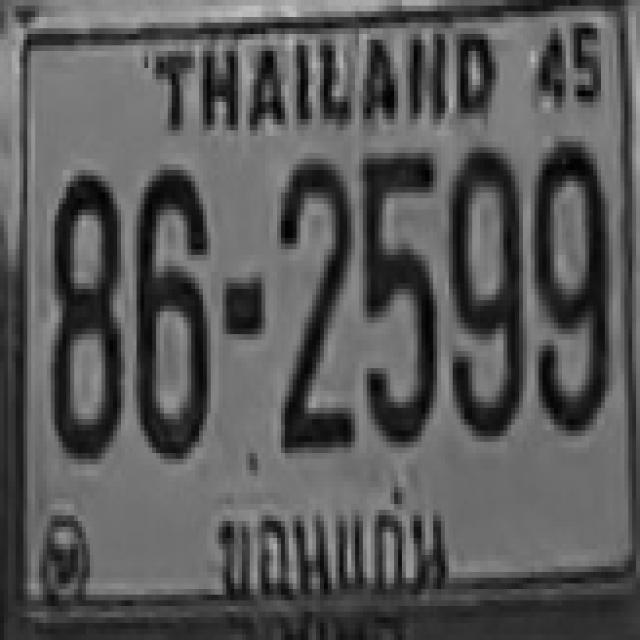2: (275, 156, 355, 447)
5: (359, 147, 433, 442)
6: (133, 164, 210, 458)
8: (47, 170, 122, 462)
9: (532, 139, 606, 428), (445, 144, 519, 433)
KhonKaen: (199, 476, 453, 602)
